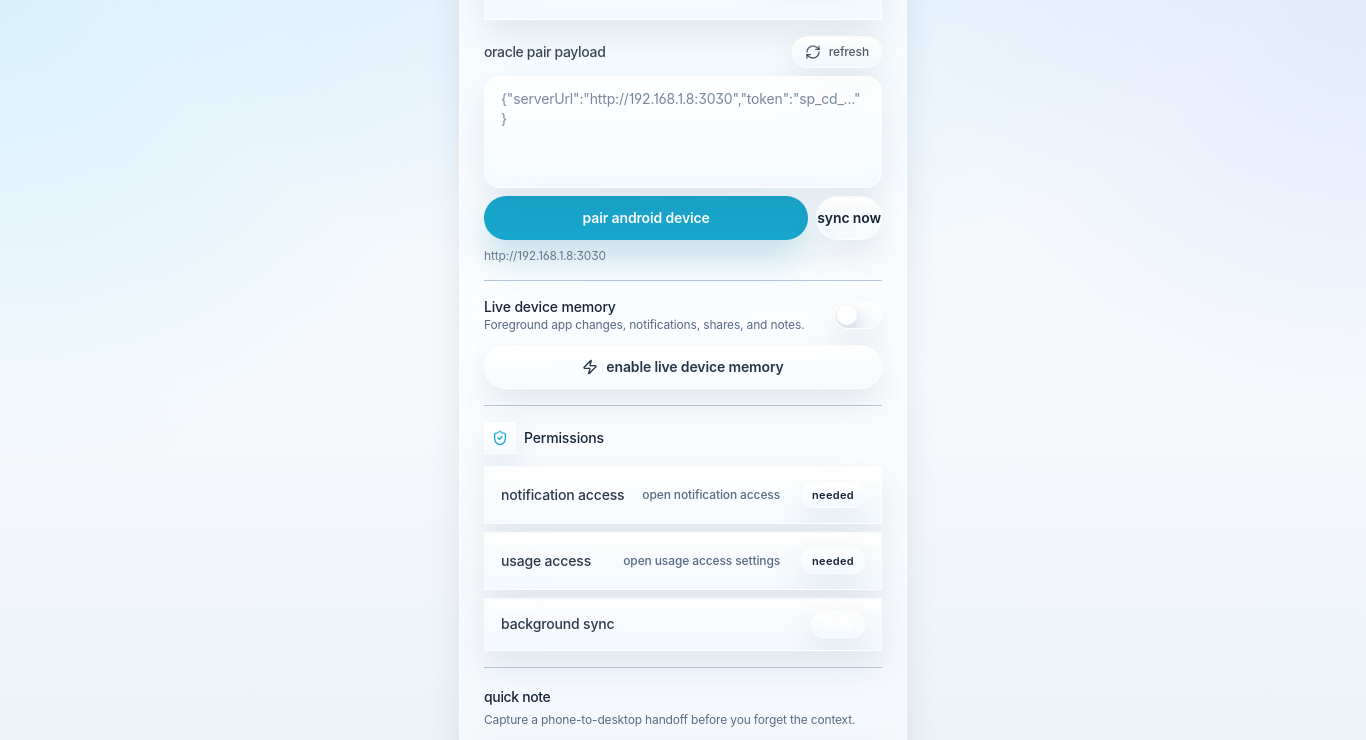
AndroidSatelliteScreen › blocks live memory until Android notification and usage access are granted
(page scrolled)
Expected: the text "needed" is shown 2 times, [801,482,865,508]; [801,548,865,574]
Click the button "enable live device memory": (683, 367) [484,345,882,389]
(page scrolled)
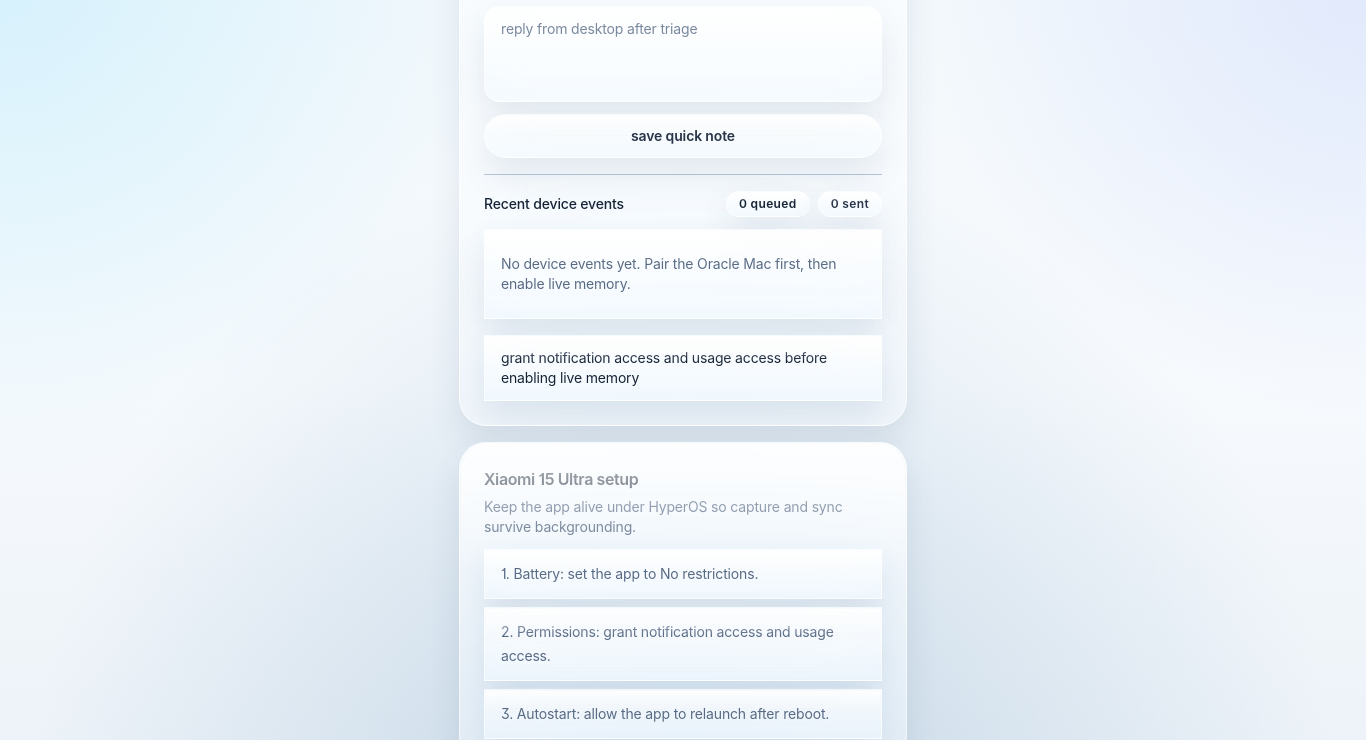
Expected: the text "grant notification access and usage access before enabling live memory" is shown, [484,334,882,400]
